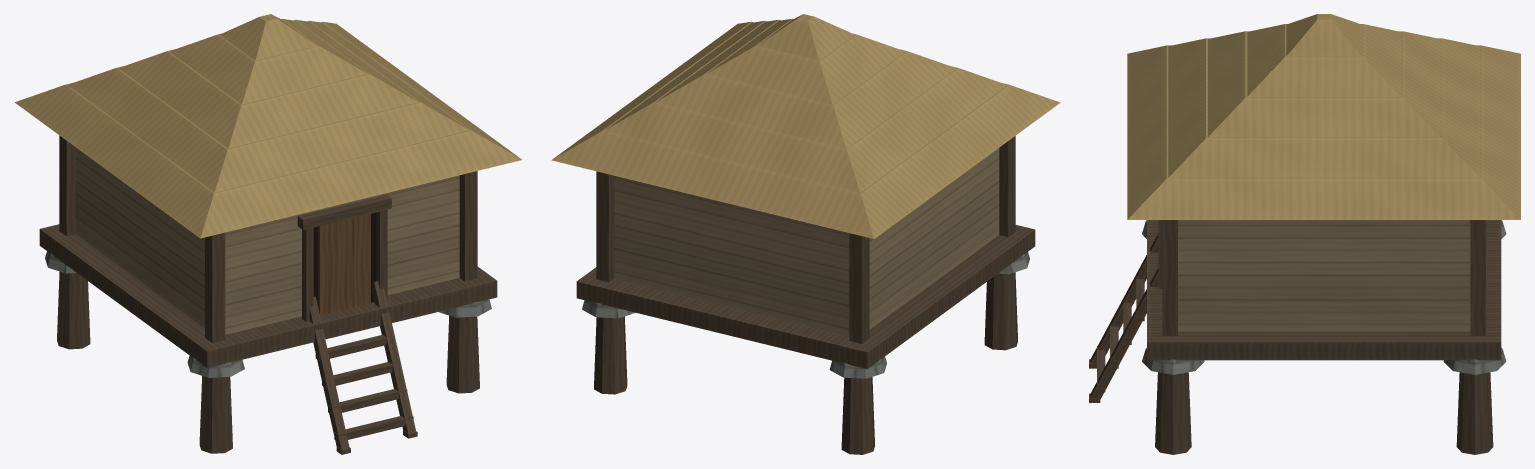
Rendered from prehistoric-granary.glb.
3 views of the same model, side by side, from view 1: azimuth 30°, elevation 25°; view 2: azimuth 150°, elevation 25°; view 3: azimuth 270°, elevation 25° (orthographic). The views are drawn at different scales.
Parts seen in each view (by area): view 1: prehistoric-granary; view 2: prehistoric-granary; view 3: prehistoric-granary.
Part boxes in pixels (x1,y1,x2,y2): prehistoric-granary: [15, 14, 521, 454]; prehistoric-granary: [551, 14, 1060, 454]; prehistoric-granary: [1089, 14, 1520, 454].
Size of the model in its own units: 0.7836 by 0.8055 by 0.86.
1 material, 1 textured.
